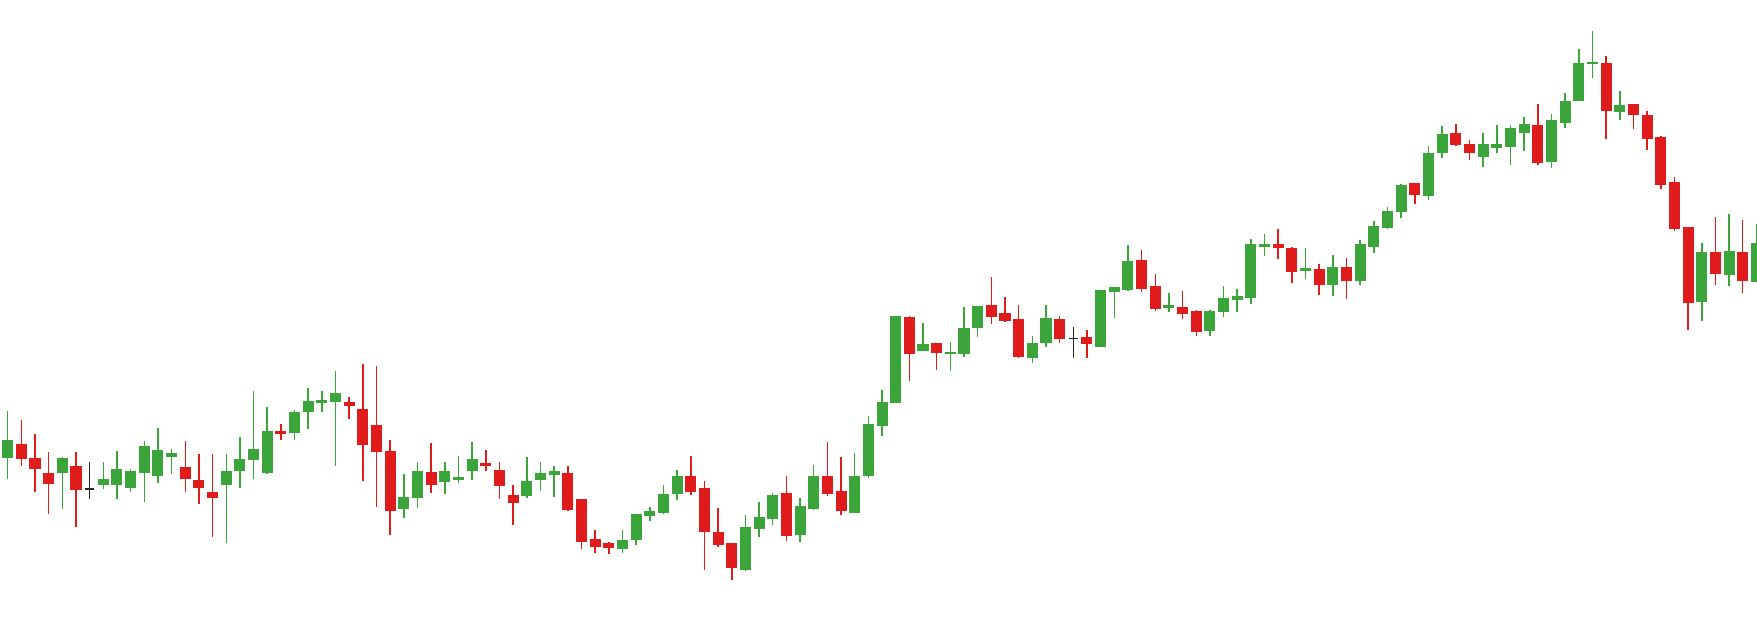buy: (589, 498, 753, 579)
